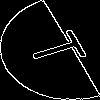T: (24, 25, 100, 71)
